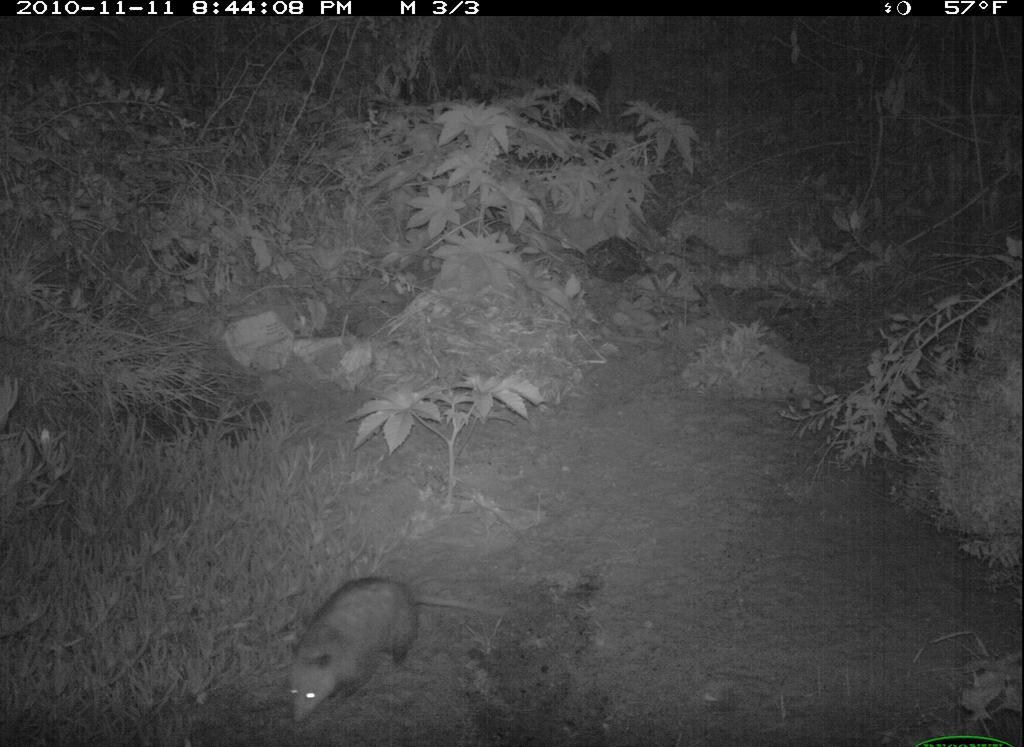opossum: (286, 574, 510, 730)
